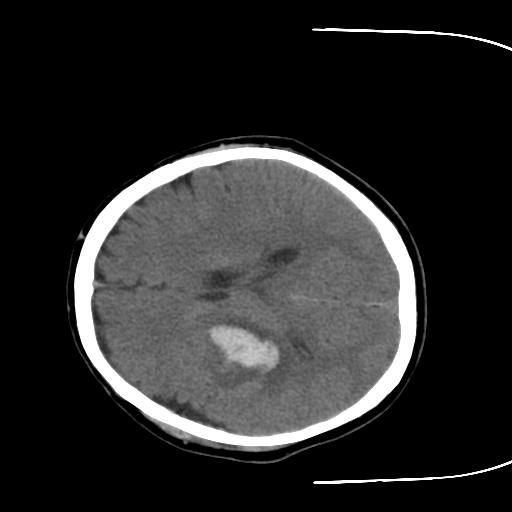a: (191, 300, 300, 407)
